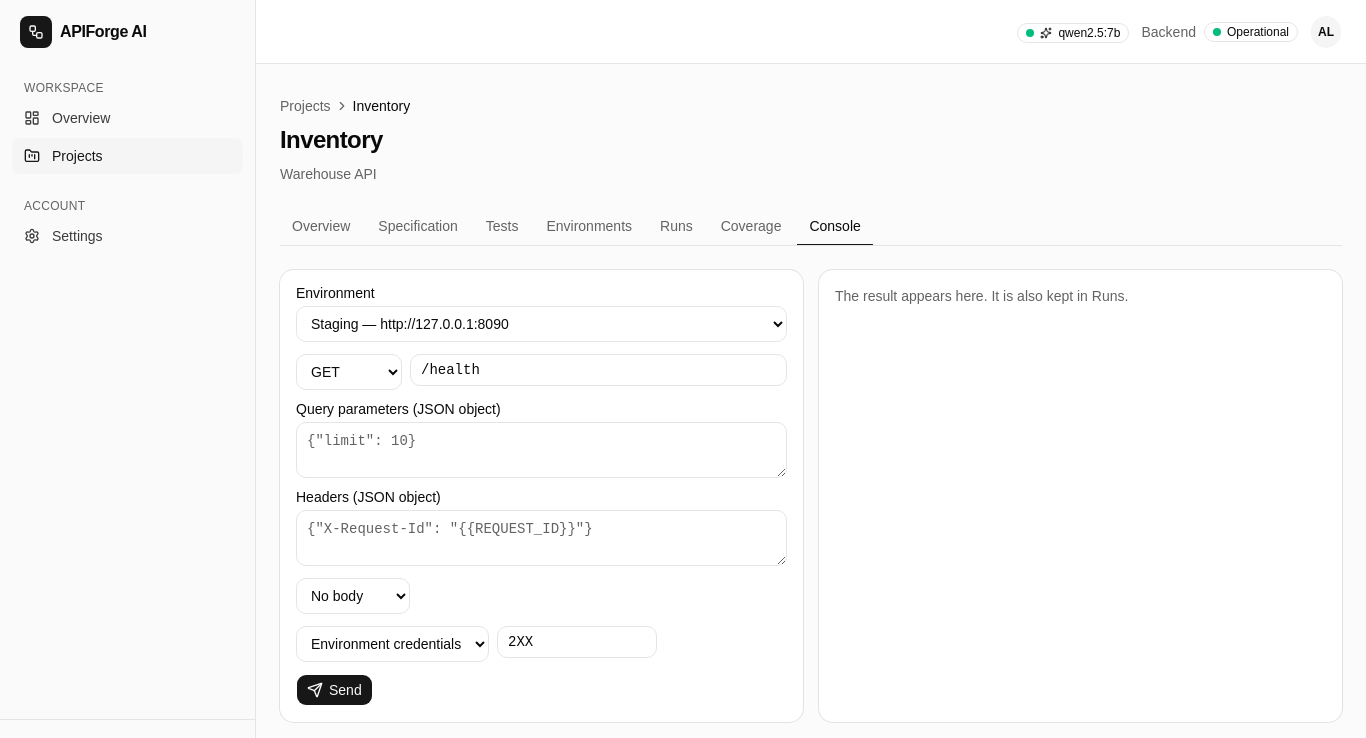
Test case: Console form validation › lists server field errors and keeps the form for correction
Replace the text in the field named "Path" with "orders" at [598, 370], box [410,354,787,386]
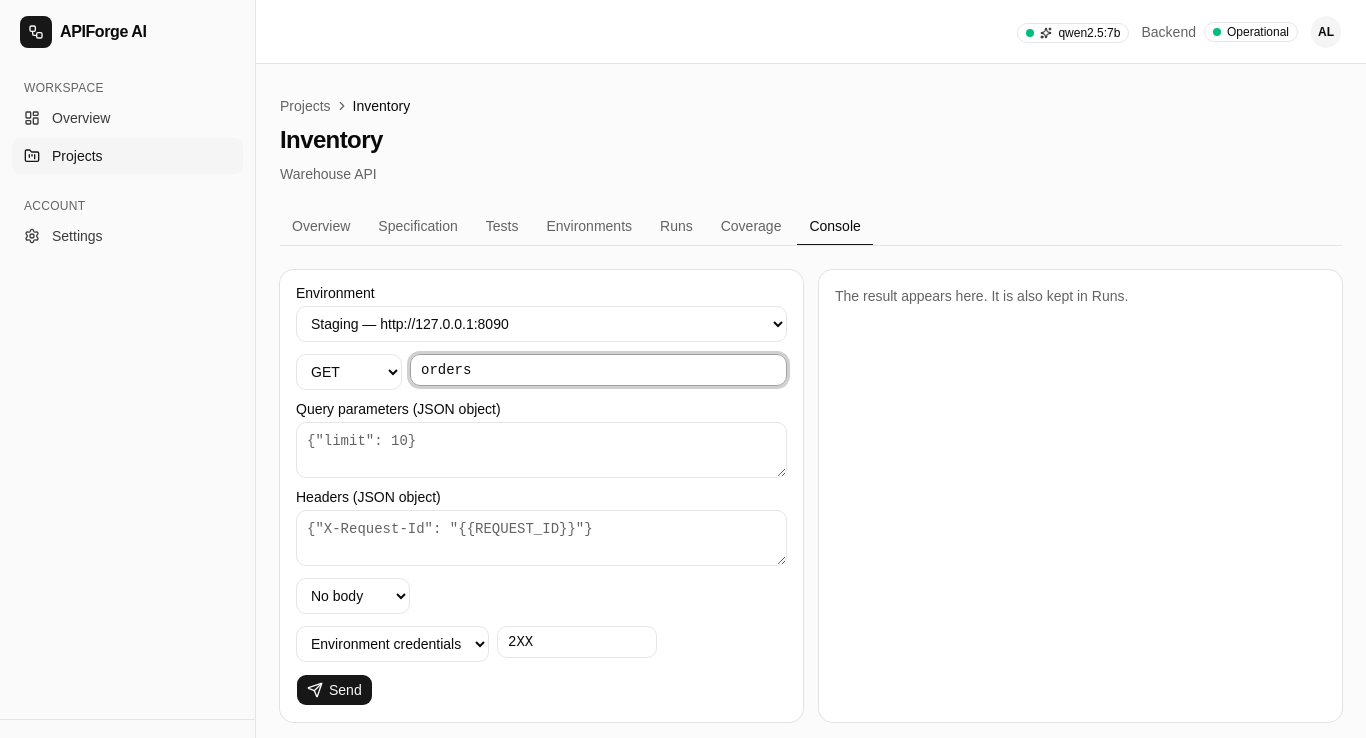
Replace the text in the field named "Expected statuses" with "2xx, 9" at [577, 642], box [497,626,657,658]
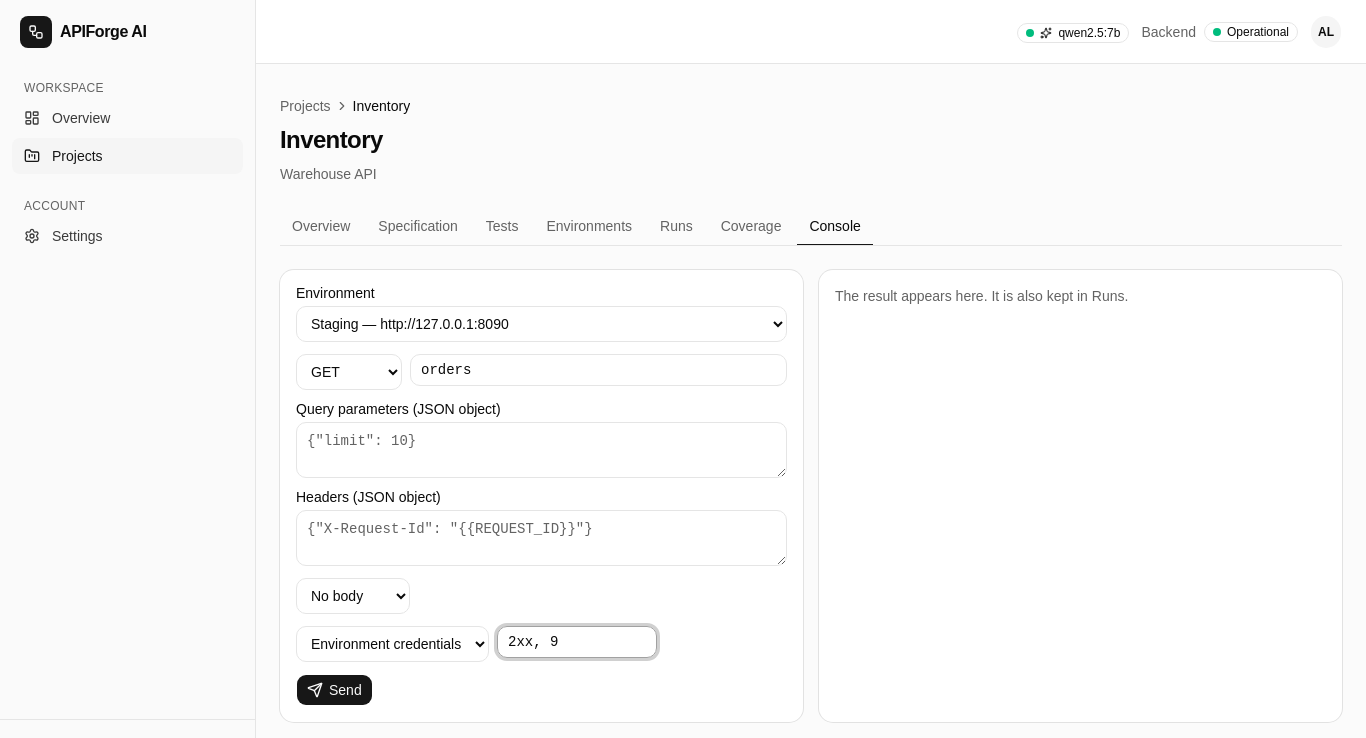
Click the button "Send" at [334, 690], box [296,674,373,706]
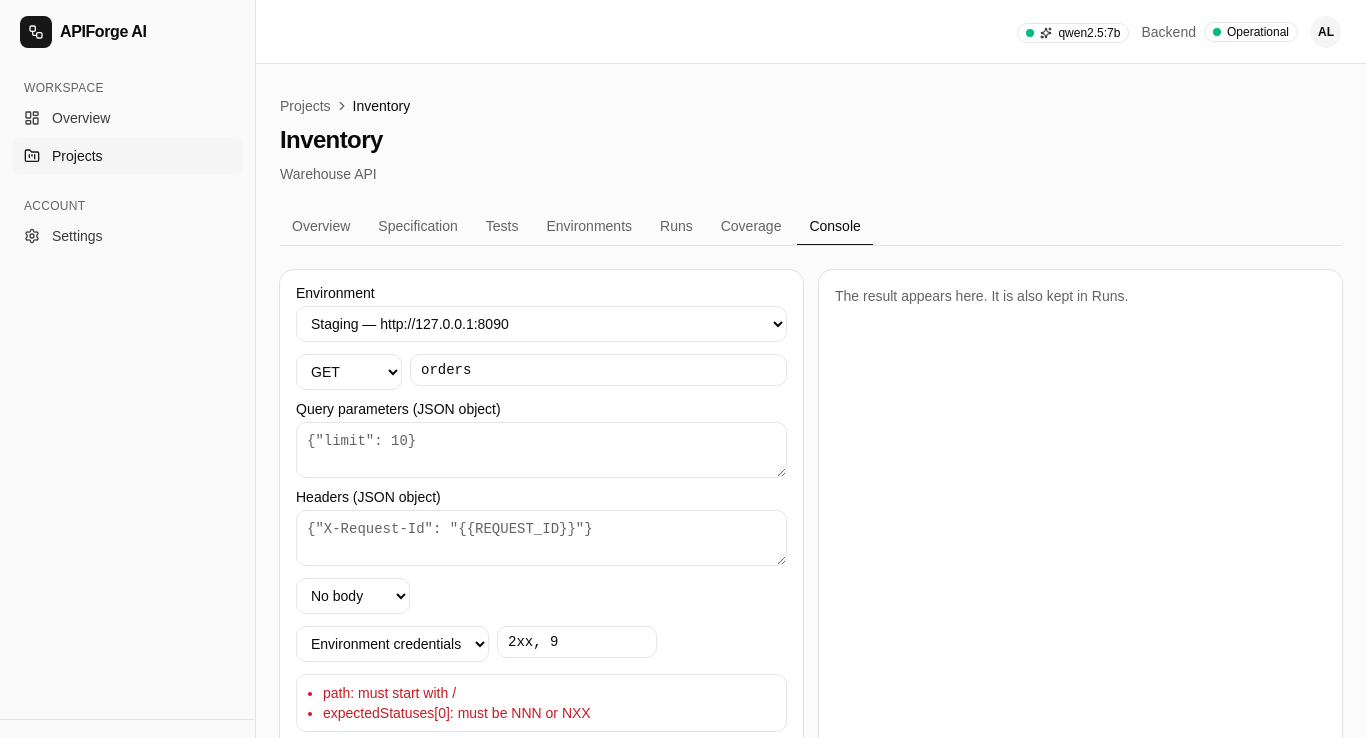
Expected: the list item "path: must start with /" is shown, [323,685,456,701]
Expected: the list item "expectedStatuses[0]: must be NNN or NXX" is shown, [323,705,591,721]
